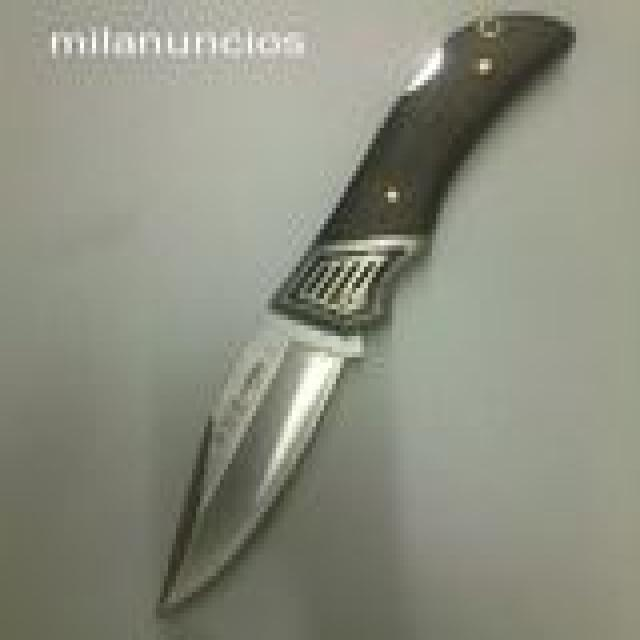Knife: (124, 2, 586, 622)
